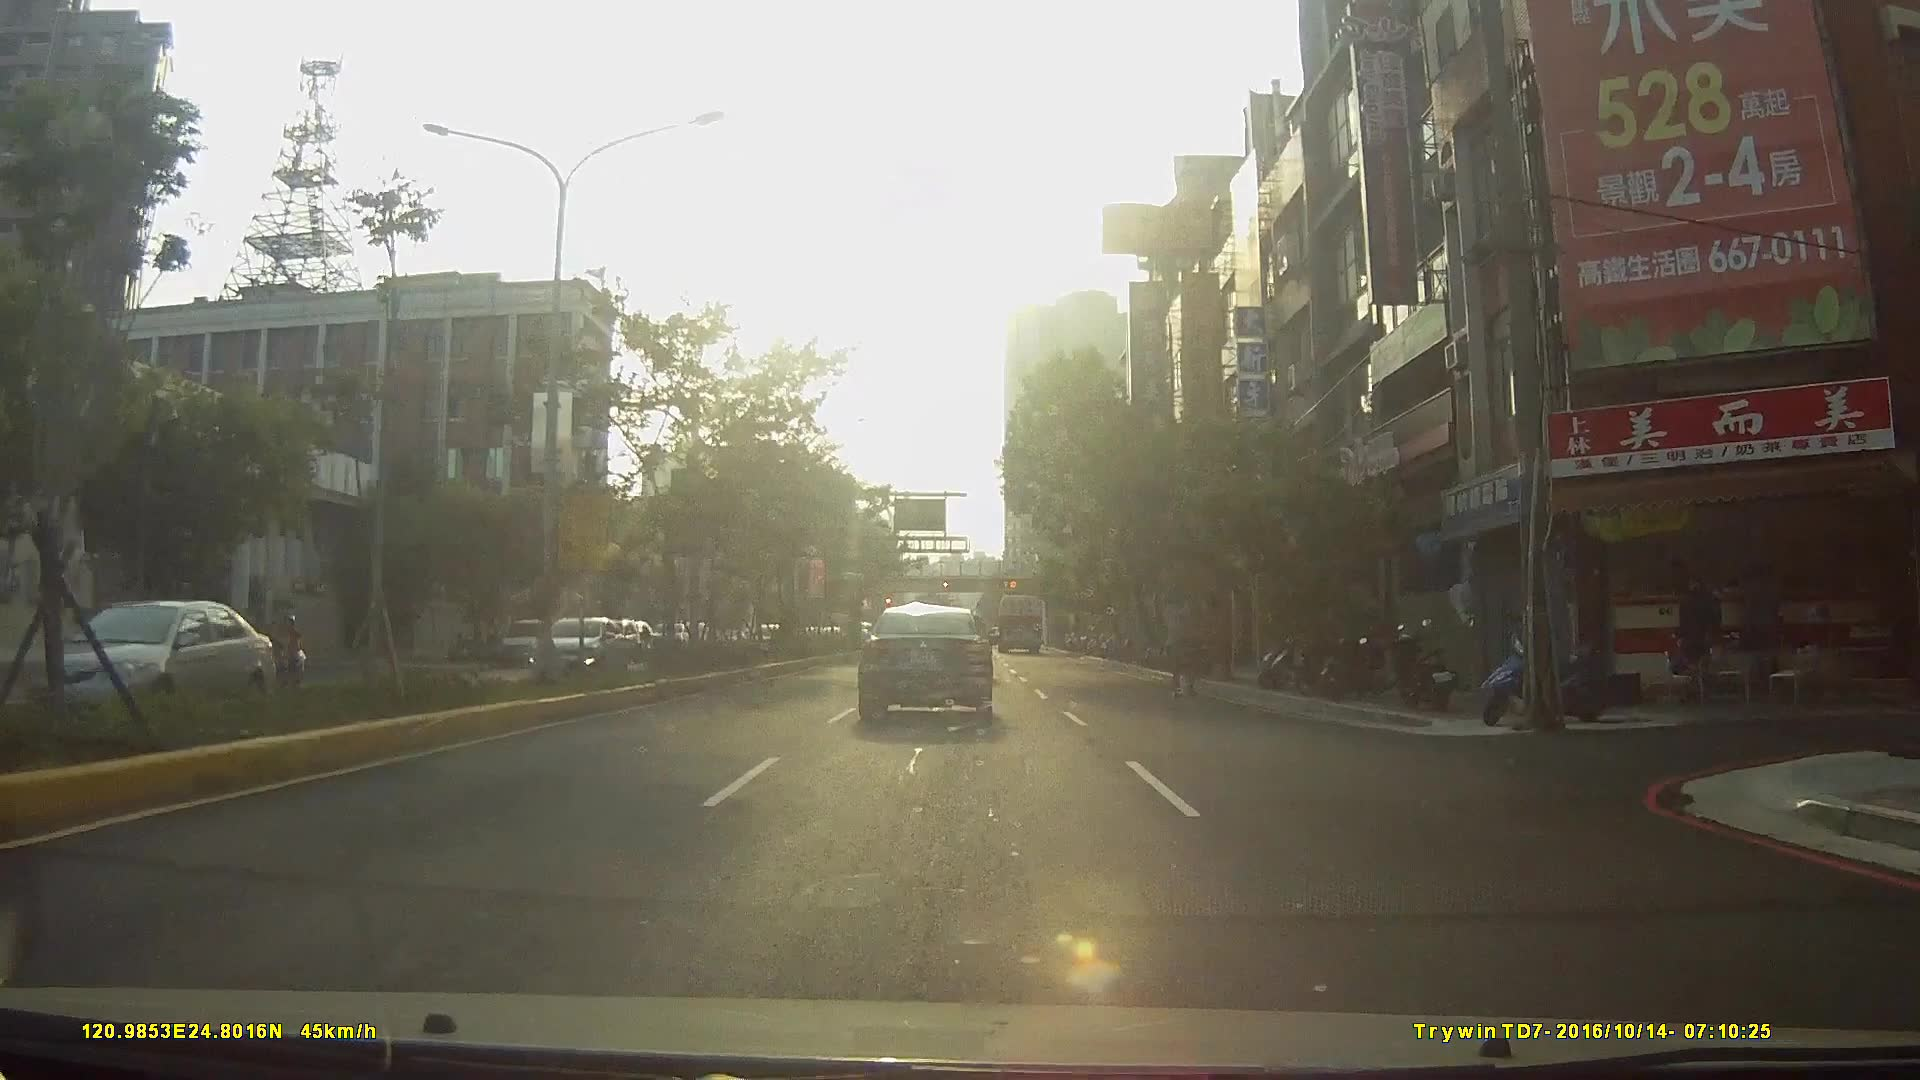pedestrian: (1166, 608, 1206, 705)
vehicle: (11, 588, 276, 735), (854, 602, 995, 724), (529, 613, 637, 688), (992, 592, 1043, 656), (496, 618, 557, 665)
